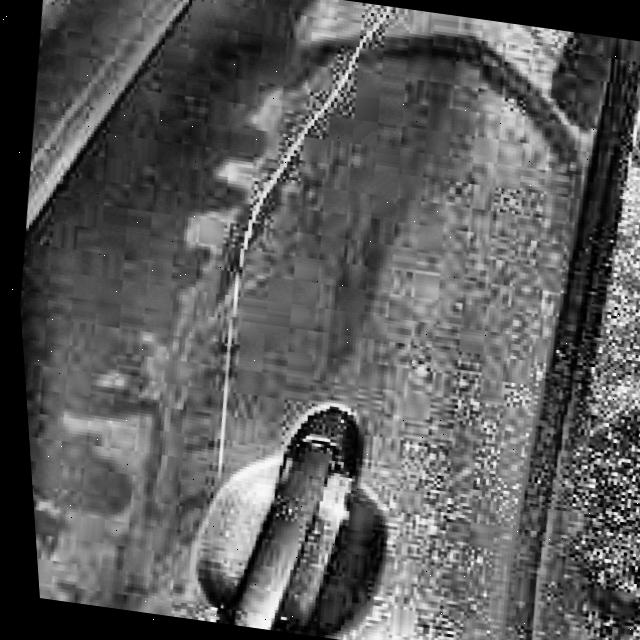door_scratch: (183, 43, 387, 496)
